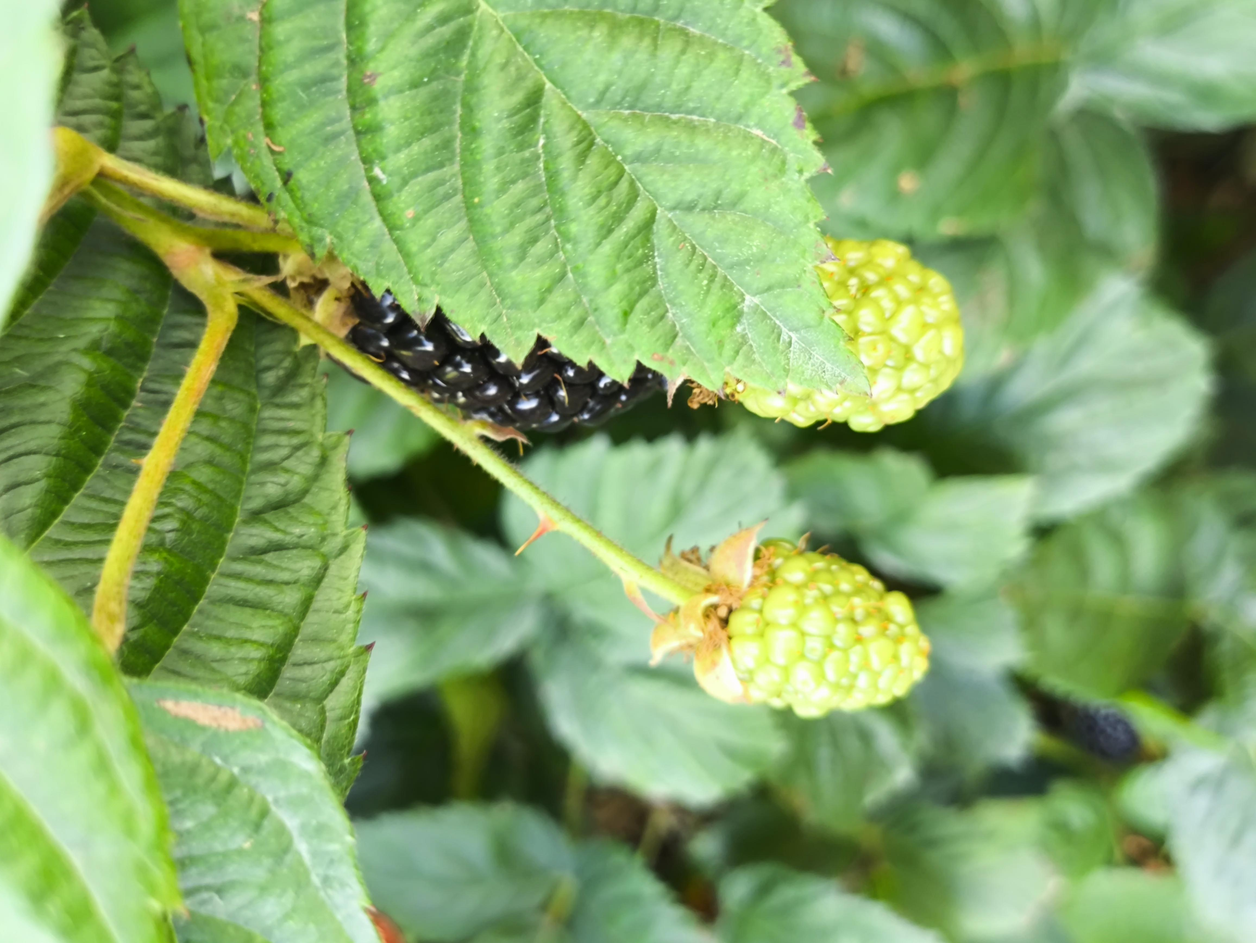verde: (725, 238, 964, 432), (725, 541, 929, 716)
